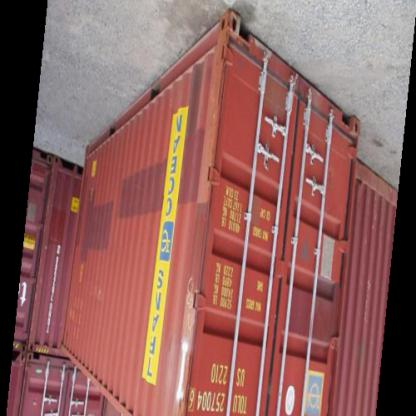Damage: (199, 26, 231, 182), (271, 59, 327, 137), (173, 285, 199, 413)
